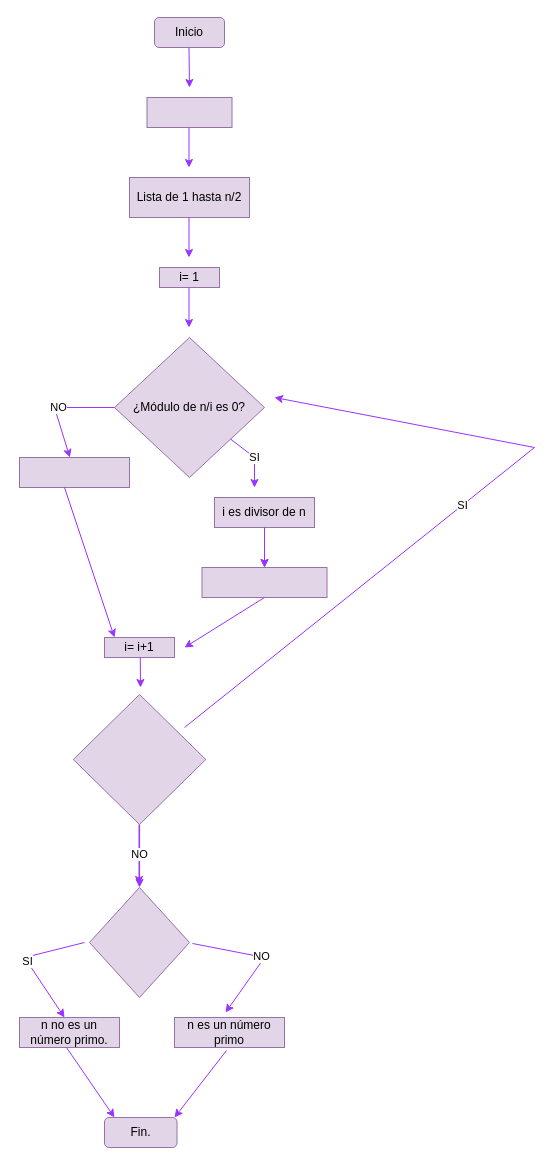
Image size: 560x1165. Some labels were removed from this diagram. The box of each missing label's shape, as (x1, y1, x2, y2) in pixels:
Agregar i a una lista conformada por n.: (201, 566, 327, 598)
i no es divisor de n: (18, 456, 130, 488)
Número n: (146, 96, 232, 128)
¿i es menor o igual a n/2?: (72, 694, 206, 824)
¿La lista tiene más de 2 elementos?: (88, 886, 190, 998)
